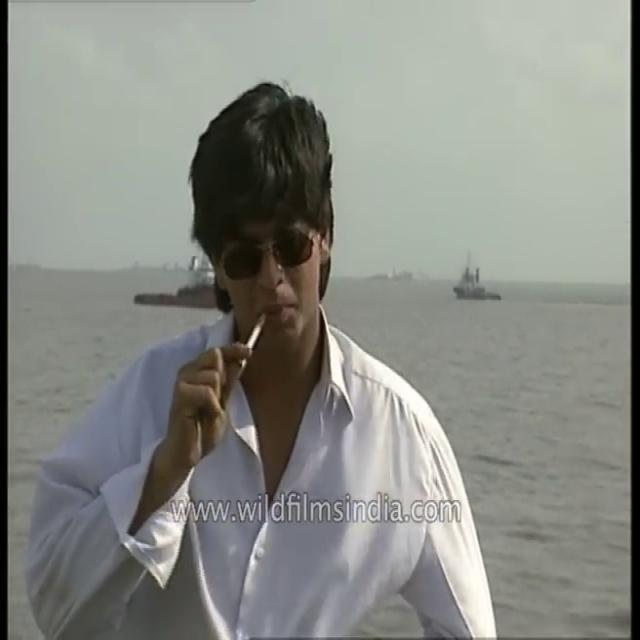Smooking: (229, 285, 268, 387)
